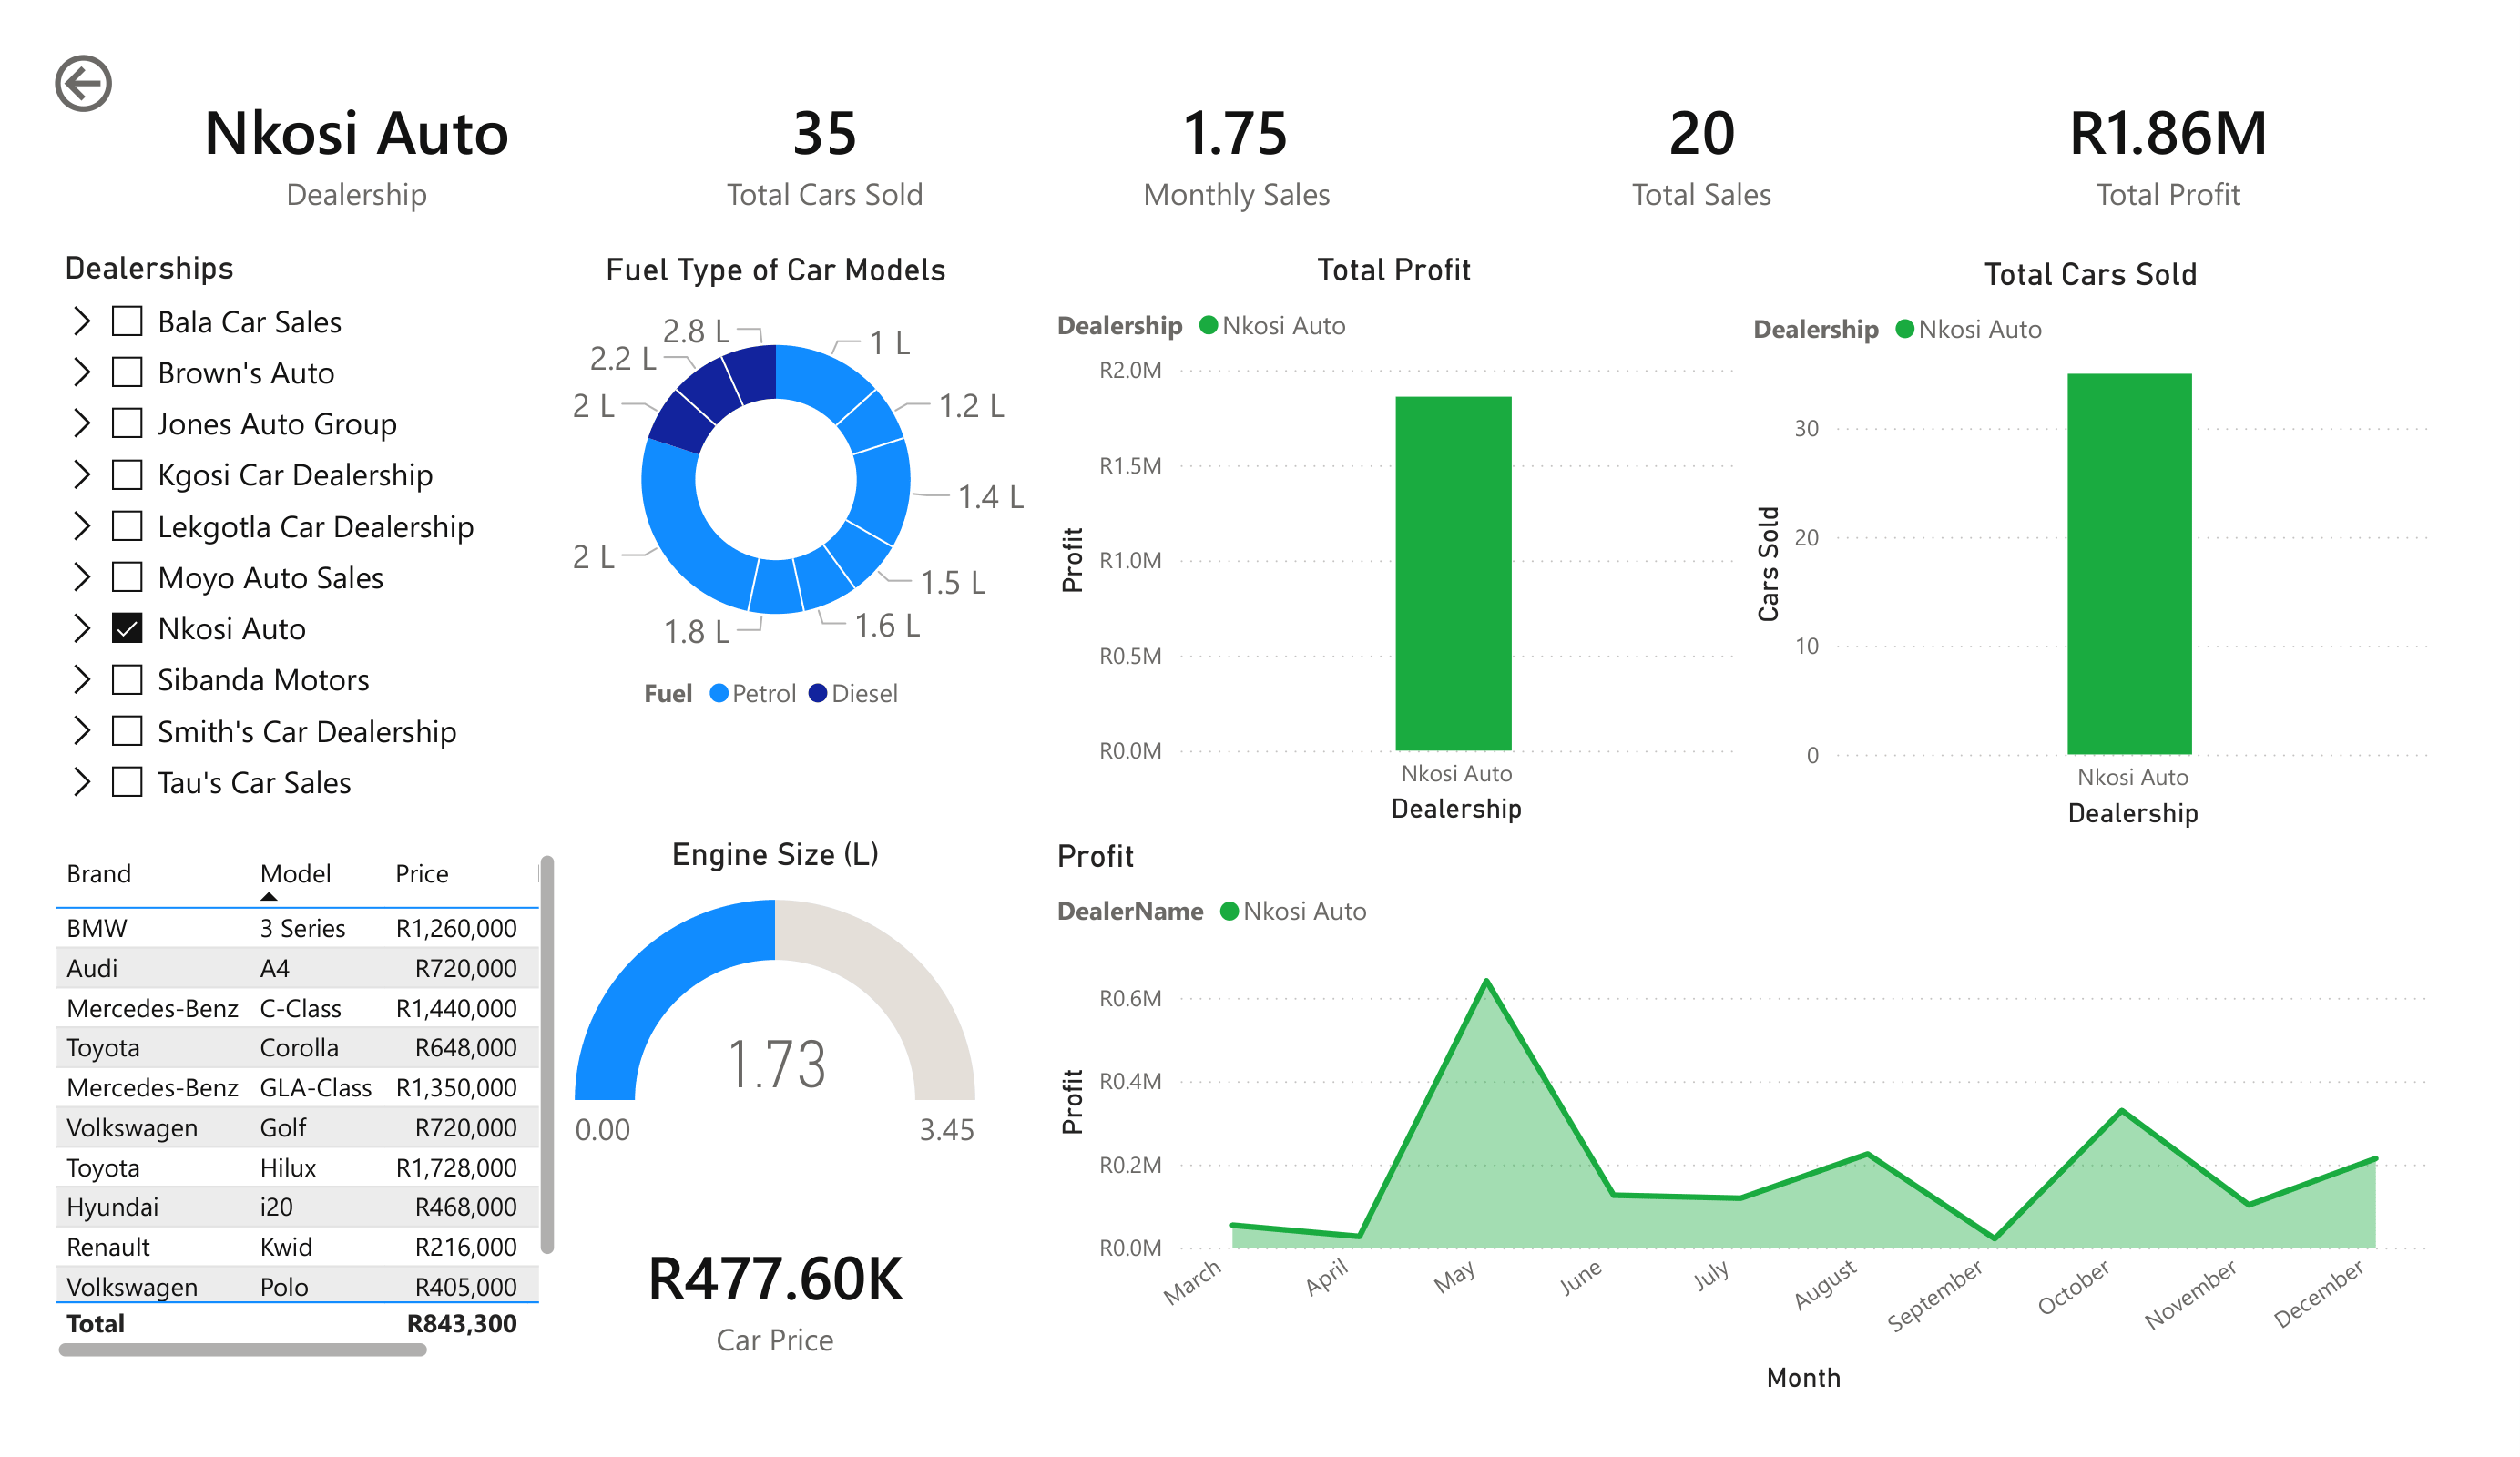

What the dashboard file says about the page in this screenshot:
{"tool":"powerbi","page":{"name":"Page 1","canvas":[1280,720],"ordinal":0},"visuals":[{"type":"cardVisual","fields":{"Data":["CountNonNull(Sales.Quantity)"]},"box":[801.4,0,144.1,109.8],"z":0},{"type":"cardVisual","fields":{"Data":["Sum(Sales.Quantity)"]},"box":[327.7,0,166.3,110.1],"z":1000},{"type":"cardVisual","fields":{"Data":["Sum(Sales.Total Profit (ZAR))"]},"box":[1012.7,0,212.7,109.8],"z":2000},{"type":"tableEx","fields":{"Values":["Models.Brand","Models.Model","Models.Price (ZAR)"]},"box":[9.6,362.3,262.1,355.4],"z":3000},{"type":"cardVisual","fields":{"Data":["Avg(Sales.Quantity)"]},"box":[548.9,0,157.8,109.8],"z":4000},{"type":"cardVisual","fields":{"Data":["Min(Dealers.DealerName)"]},"box":[23.2,0,265.4,110.1],"z":5000},{"type":"donutChart","title":"Fuel Type of Car Models","fields":{"Category":["Models.Fuel"],"Y":["CountNonNull(Models.Fuel)"],"Series":["Models.Engine Sizes (L)"]},"box":[242.1,107.6,286.1,251.9],"z":6000},{"type":"tableEx","fields":{"Values":["Dealers.DealerID","Dealers.DealerName"]},"box":[9.8,99,232.3,249.5],"z":7000},{"type":"gauge","fields":{"Y":["Avg(Models.EngineSize (L))"]},"box":[273.9,414.5,221.3,187.1],"z":8000},{"type":"columnChart","title":"Total Profit","fields":{"Category":["Dealers.DealerName","Sales.Date.Variation.Date Hierarchy.Month","Dealers.City","Models.Brand","Models.Model"],"Y":["Sum(Sales.Total Profit (ZAR))"],"Series":["Dealers.DealerName"]},"box":[528.3,107.6,365.6,306.9],"z":9000},{"type":"columnChart","title":"Total Cars Sold","fields":{"Category":["Dealers.DealerName","Dealers.City","Models.Segment","Models.Model"],"Y":["Sum(Sales.Quantity)"],"Series":["Dealers.DealerName"]},"box":[894.7,109.8,366.4,307.4],"z":10000},{"type":"actionButton","box":[0,0,100,40],"z":11000},{"type":"lineChart","title":"Monthly Profit (ZAR)","fields":{"Category":["Sales.Date.Variation.Date Hierarchy.Month","Dealers.Country","Dealers.City"],"Series":["Dealers.DealerName"],"Y":["Avg(Sales.Total Profit (ZAR))"]},"box":[528.3,417.2,731.4,303.3],"z":12000},{"type":"cardVisual","fields":{"Data":["Avg(Models.Price (ZAR))"]},"box":[271.5,584.5,216.4,135.7],"z":13000}]}

Visuals, with their boxes on the page's 1280x720 design canvas (x1, y1, x2, y2). These are canvas units, not pixel positions in the 2520x1457 screenshot, which may show the page scaled, cropped or inside an application window:
cardVisual - CountNonNull(Sales.Quantity): Rect(801, 0, 946, 110)
cardVisual - Sum(Sales.Quantity): Rect(328, 0, 494, 110)
cardVisual - Sum(Sales.Total Profit (ZAR)): Rect(1013, 0, 1225, 110)
tableEx - Models.Brand x Models.Model: Rect(10, 362, 272, 718)
cardVisual - Avg(Sales.Quantity): Rect(549, 0, 707, 110)
cardVisual - Min(Dealers.DealerName): Rect(23, 0, 289, 110)
"Fuel Type of Car Models" donutChart: Rect(242, 108, 528, 360)
tableEx - Dealers.DealerID x Dealers.DealerName: Rect(10, 99, 242, 348)
gauge - Avg(Models.EngineSize (L)): Rect(274, 414, 495, 602)
"Total Profit" columnChart: Rect(528, 108, 894, 414)
"Total Cars Sold" columnChart: Rect(895, 110, 1261, 417)
actionButton: Rect(0, 0, 100, 40)
"Monthly Profit (ZAR)" lineChart: Rect(528, 417, 1260, 720)
cardVisual - Avg(Models.Price (ZAR)): Rect(272, 584, 488, 720)
